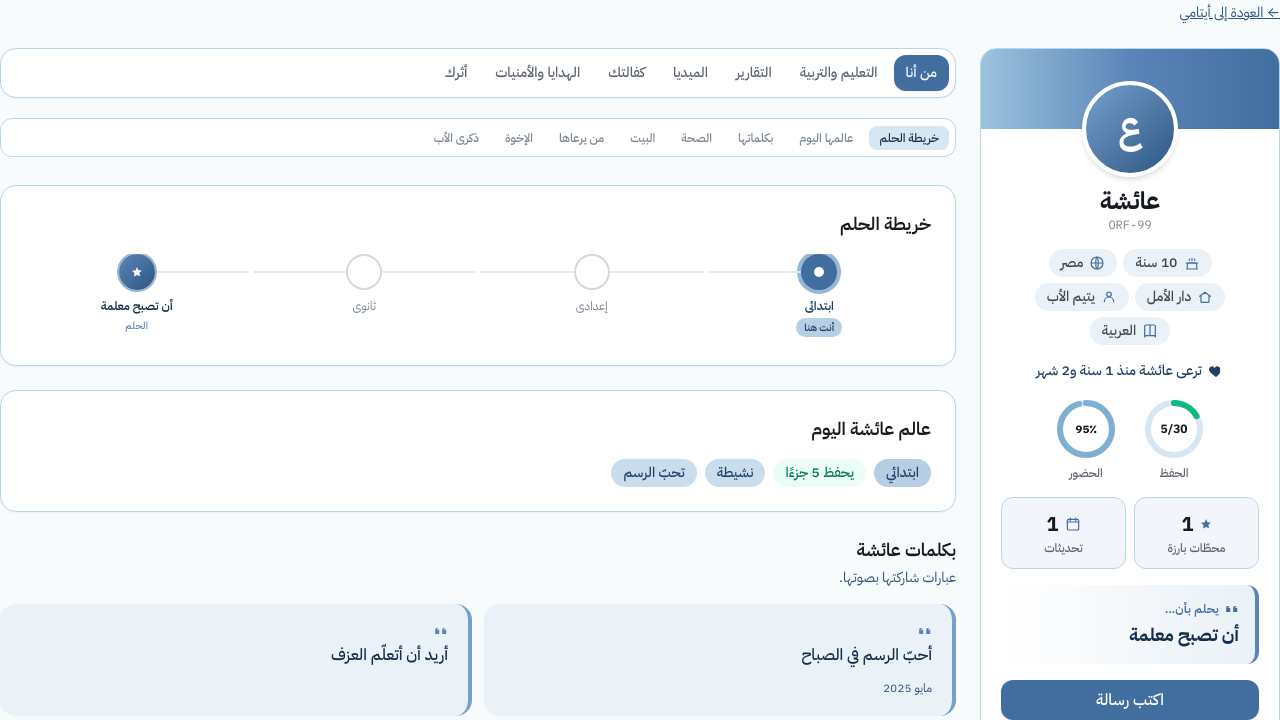
Test: DonorOrphanDetailPage — v4 app-shell (tabs + rail) › moves the selection with arrow keys (RTL-aware)
Click the tab "من أنا". click: click(921, 73)
box: [894,55,949,91]
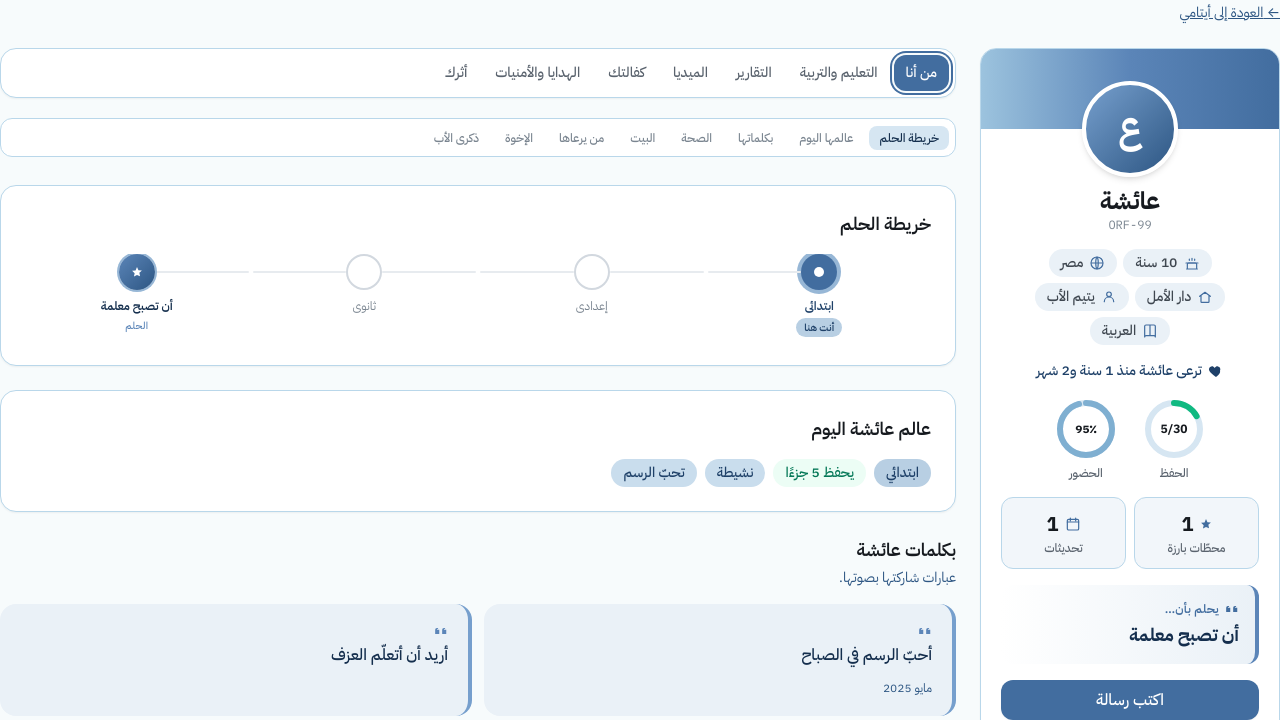
In RTL, ArrowLeft moves toward the reading direction — the next tab.
Press Arrowleft
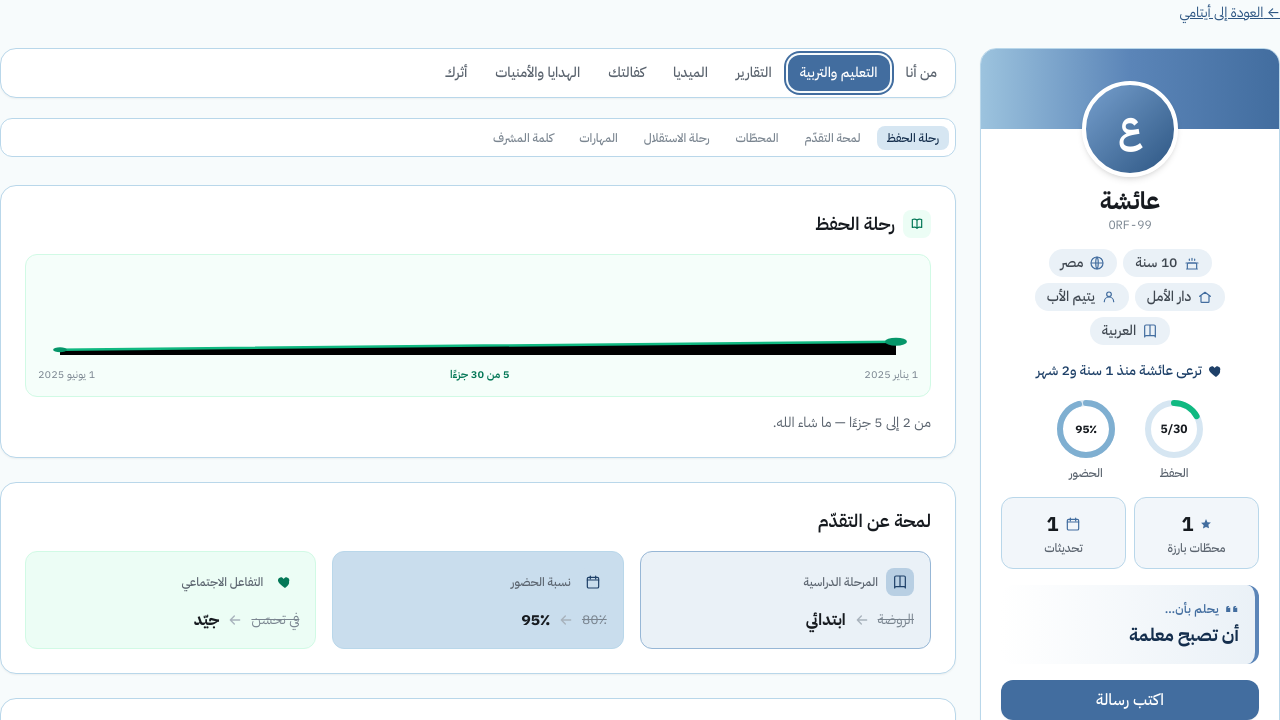
Expected: the heading "رحلة الحفظ" is shown, [815,210,895,238]
